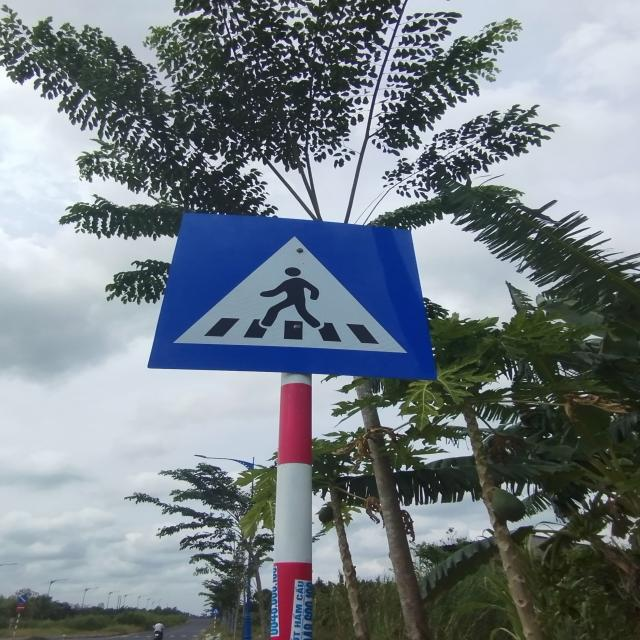Giao_Nhau_Duong_Uu_Tien: (146, 214, 438, 380)
